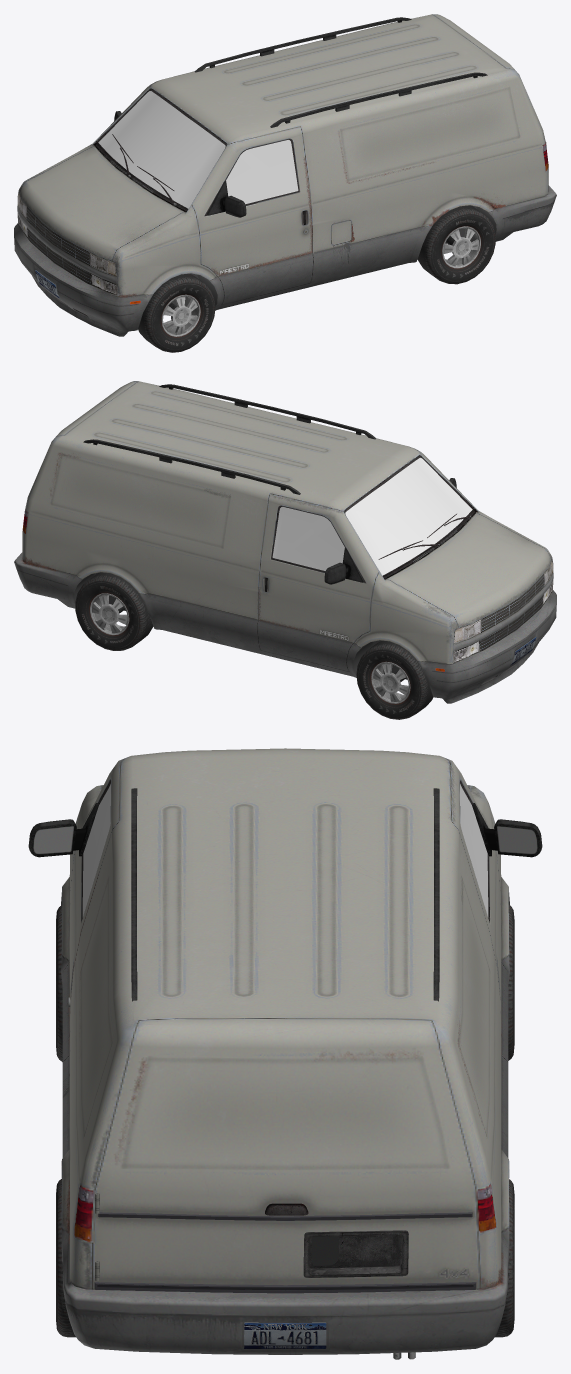
Rendered from Minivan_Builders.fbx.
3 renders of one model, top to bottom at view 1: azimuth 30°, elevation 25°; view 2: azimuth 150°, elevation 25°; view 3: azimuth 270°, elevation 25°, orthographic. The views are drawn at different scales.
Visible parts, largest first — view 1: Minivan_Builders_LOD0, Minivan_Wheel_LOD0.005, Minivan_Wheel_LOD0.004; view 2: Minivan_Builders_LOD0, Minivan_Wheel_LOD0.006, Minivan_Wheel_LOD0.007; view 3: Minivan_Builders_LOD0, Minivan_Wheel_LOD0.005, Minivan_Wheel_LOD0.006, Minivan_Wheel_LOD0.004, Minivan_Wheel_LOD0.007.
Part boxes in pixels (left/top/right/bottom): Minivan_Builders_LOD0: left=14, top=14, right=556, bottom=336; Minivan_Wheel_LOD0.005: left=417, top=205, right=495, bottom=284; Minivan_Wheel_LOD0.004: left=138, top=273, right=215, bottom=352; Minivan_Builders_LOD0: left=14, top=381, right=556, bottom=703; Minivan_Wheel_LOD0.006: left=75, top=572, right=153, bottom=650; Minivan_Wheel_LOD0.007: left=356, top=640, right=433, bottom=719; Minivan_Builders_LOD0: left=28, top=748, right=542, bottom=1359; Minivan_Wheel_LOD0.005: left=56, top=1178, right=75, bottom=1337; Minivan_Wheel_LOD0.006: left=495, top=1179, right=514, bottom=1337; Minivan_Wheel_LOD0.004: left=56, top=905, right=62, bottom=1061; Minivan_Wheel_LOD0.007: left=508, top=904, right=514, bottom=1060.
Size of what is drawn, in the model's own units: 491 by 193 by 234.
